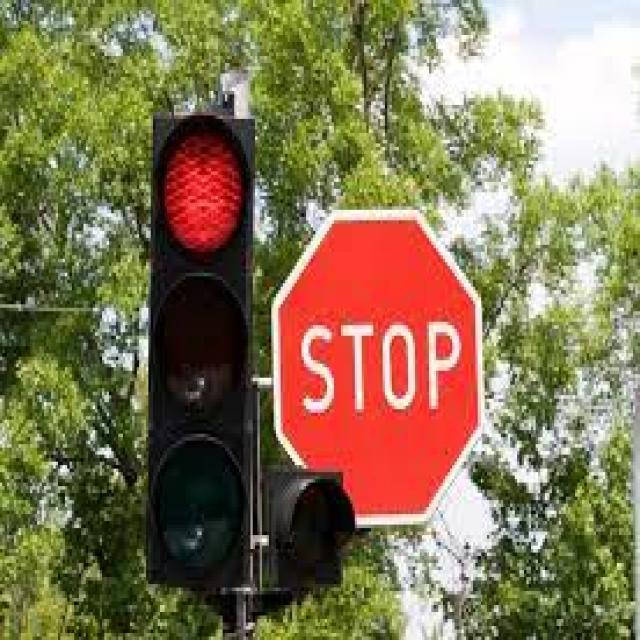red: (151, 109, 251, 596)
